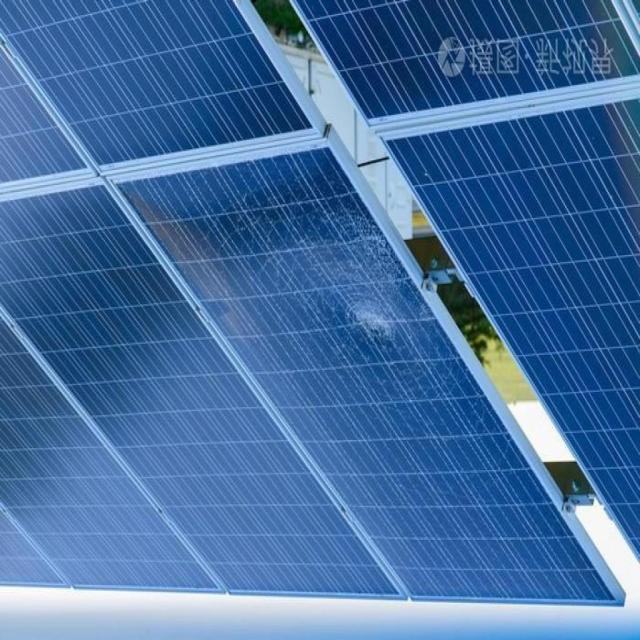cracked: (130, 143, 614, 618)
